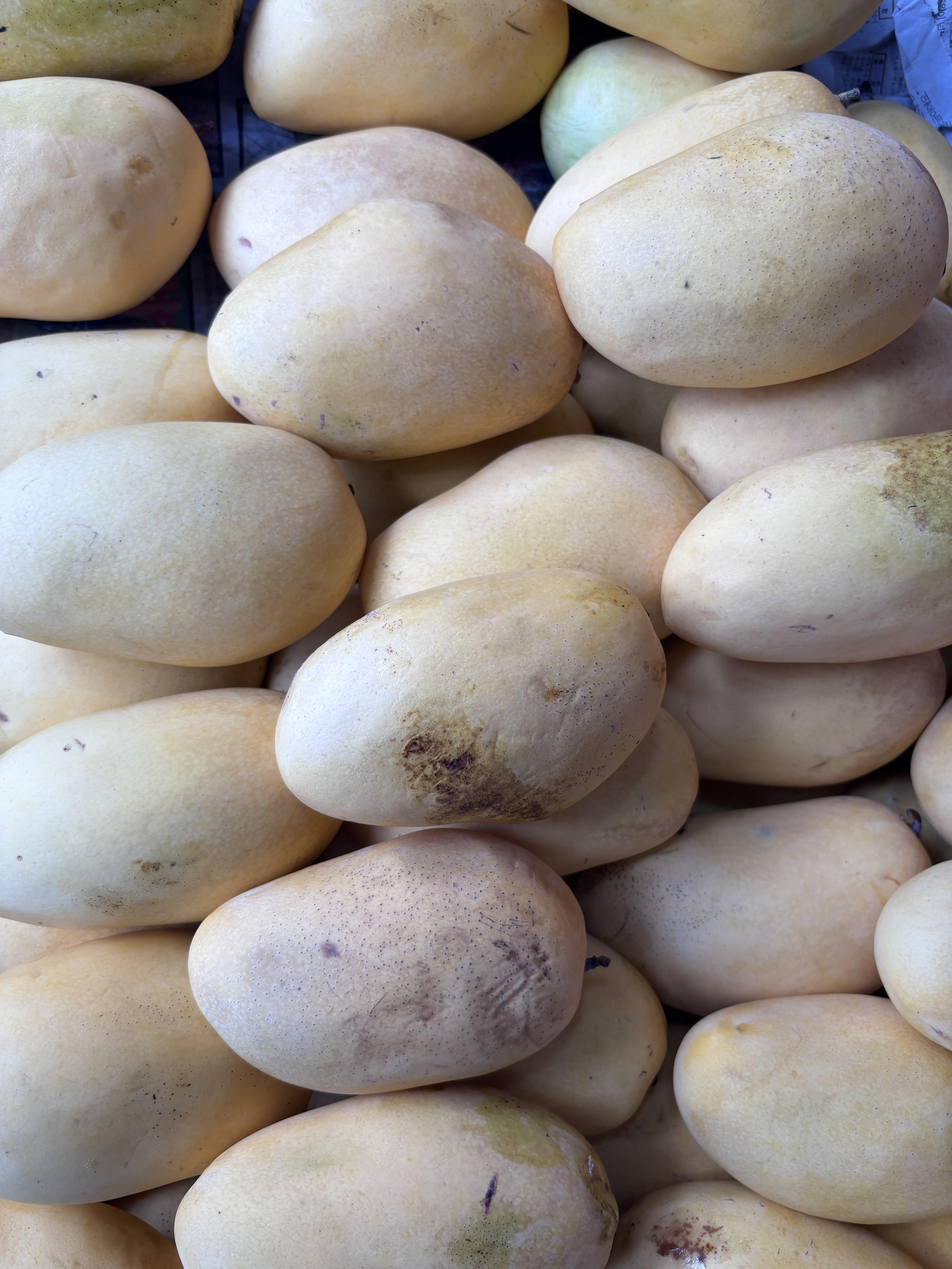mango: (553, 112, 948, 389), (189, 828, 586, 1094), (276, 569, 665, 826), (208, 198, 581, 461)
occluded: (0, 421, 365, 666), (0, 929, 310, 1205), (176, 1084, 618, 1269), (0, 688, 339, 928), (576, 796, 930, 1015), (360, 435, 705, 638), (661, 431, 952, 662), (674, 994, 952, 1225), (525, 71, 849, 264), (660, 299, 952, 500), (209, 126, 534, 288), (0, 77, 212, 321), (244, 0, 569, 140), (663, 636, 945, 787), (482, 934, 667, 1139), (336, 395, 592, 541), (485, 708, 699, 876), (0, 329, 245, 470), (0, 632, 268, 754), (541, 37, 741, 179), (606, 1181, 920, 1269), (590, 1023, 731, 1212), (570, 0, 877, 73), (847, 100, 952, 307), (0, 0, 243, 87), (874, 862, 952, 1050), (0, 1199, 182, 1269), (572, 345, 677, 453), (0, 918, 140, 973), (911, 697, 952, 843), (112, 1177, 198, 1241), (866, 1214, 952, 1269), (349, 823, 425, 846)
